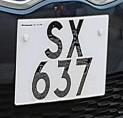3: (52, 59, 74, 98)
6: (28, 61, 54, 101)
7: (72, 56, 95, 99)
S: (42, 18, 66, 60)
X: (65, 15, 87, 61)
